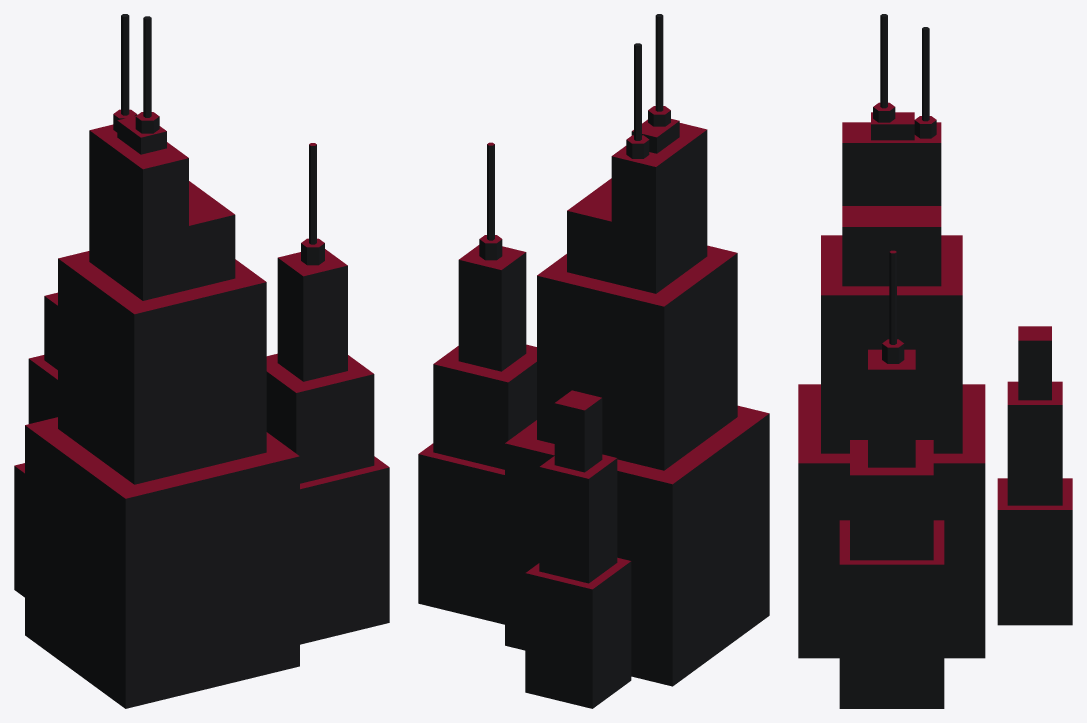
The model's file is Factory2.fbx.
3 renders of one model, left to right at view 1: azimuth 30°, elevation 25°; view 2: azimuth 150°, elevation 25°; view 3: azimuth 270°, elevation 25°, orthographic. The views are drawn at different scales.
Visible parts, largest first — view 1: Cylinder.004; view 2: Cylinder.004; view 3: Cylinder.004.
Part boxes in pixels (x1,y1,x2,y2): Cylinder.004: (14, 14, 389, 708); Cylinder.004: (418, 14, 769, 708); Cylinder.004: (798, 14, 1072, 708).
Size of the model in its own units: 171 by 366 by 153.
